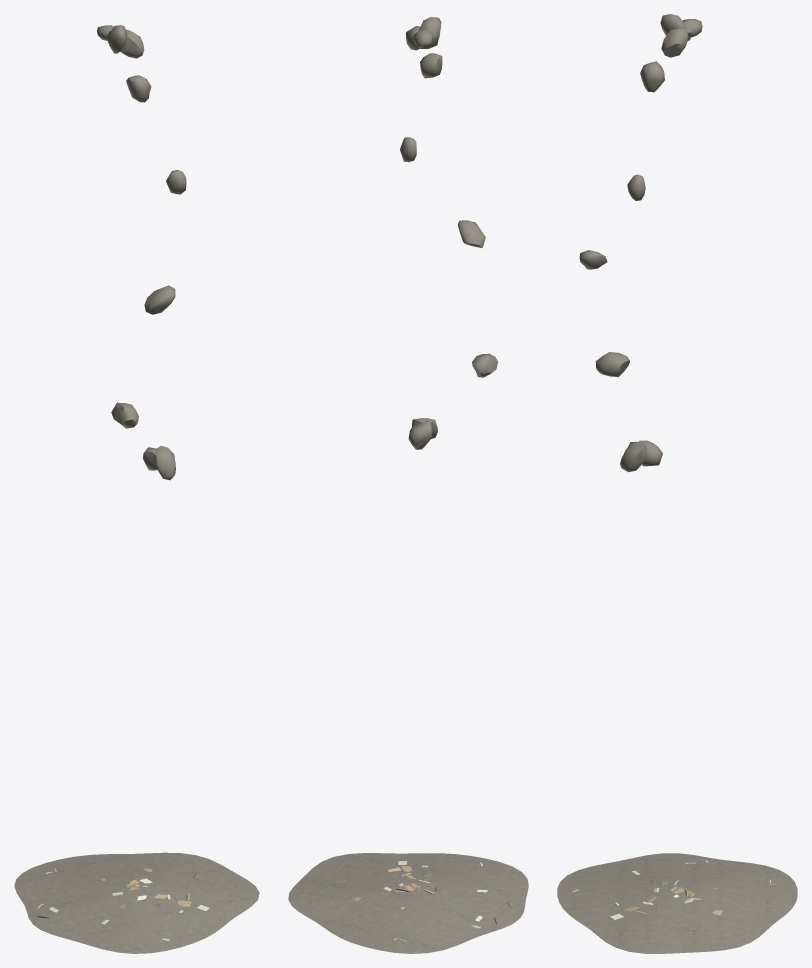
Rendered from SER-DEM-003_anim.glb.
The picture shows the model from 3 angles, left to right: view 1: azimuth 30°, elevation 25°; view 2: azimuth 150°, elevation 25°; view 3: azimuth 270°, elevation 25°; orthographic projection.
Visible parts, largest first — view 1: SER-DEM-003_anim_monte, SER-DEM-003_anim_t4, SER-DEM-003_anim_t0, SER-DEM-003_anim_t2; view 2: SER-DEM-003_anim_monte, SER-DEM-003_anim_t4, SER-DEM-003_anim_t1; view 3: SER-DEM-003_anim_monte, SER-DEM-003_anim_t2, SER-DEM-003_anim_t0, SER-DEM-003_anim_t6, SER-DEM-003_anim_t5.
Part boxes in pixels (x1,y1,x2,y2): SER-DEM-003_anim_monte: (14, 852, 259, 953); SER-DEM-003_anim_t4: (144, 285, 175, 314); SER-DEM-003_anim_t0: (154, 445, 175, 480); SER-DEM-003_anim_t2: (111, 402, 138, 428); SER-DEM-003_anim_monte: (288, 853, 528, 953); SER-DEM-003_anim_t4: (458, 220, 485, 248); SER-DEM-003_anim_t1: (408, 421, 432, 449); SER-DEM-003_anim_monte: (557, 853, 797, 953); SER-DEM-003_anim_t2: (595, 352, 629, 377); SER-DEM-003_anim_t0: (620, 441, 647, 472); SER-DEM-003_anim_t6: (661, 28, 688, 57); SER-DEM-003_anim_t5: (640, 61, 664, 92).
Size of the model in its own units: 0.4064 by 1.66 by 0.4102.
Materials: 3 (3 with a texture image).
